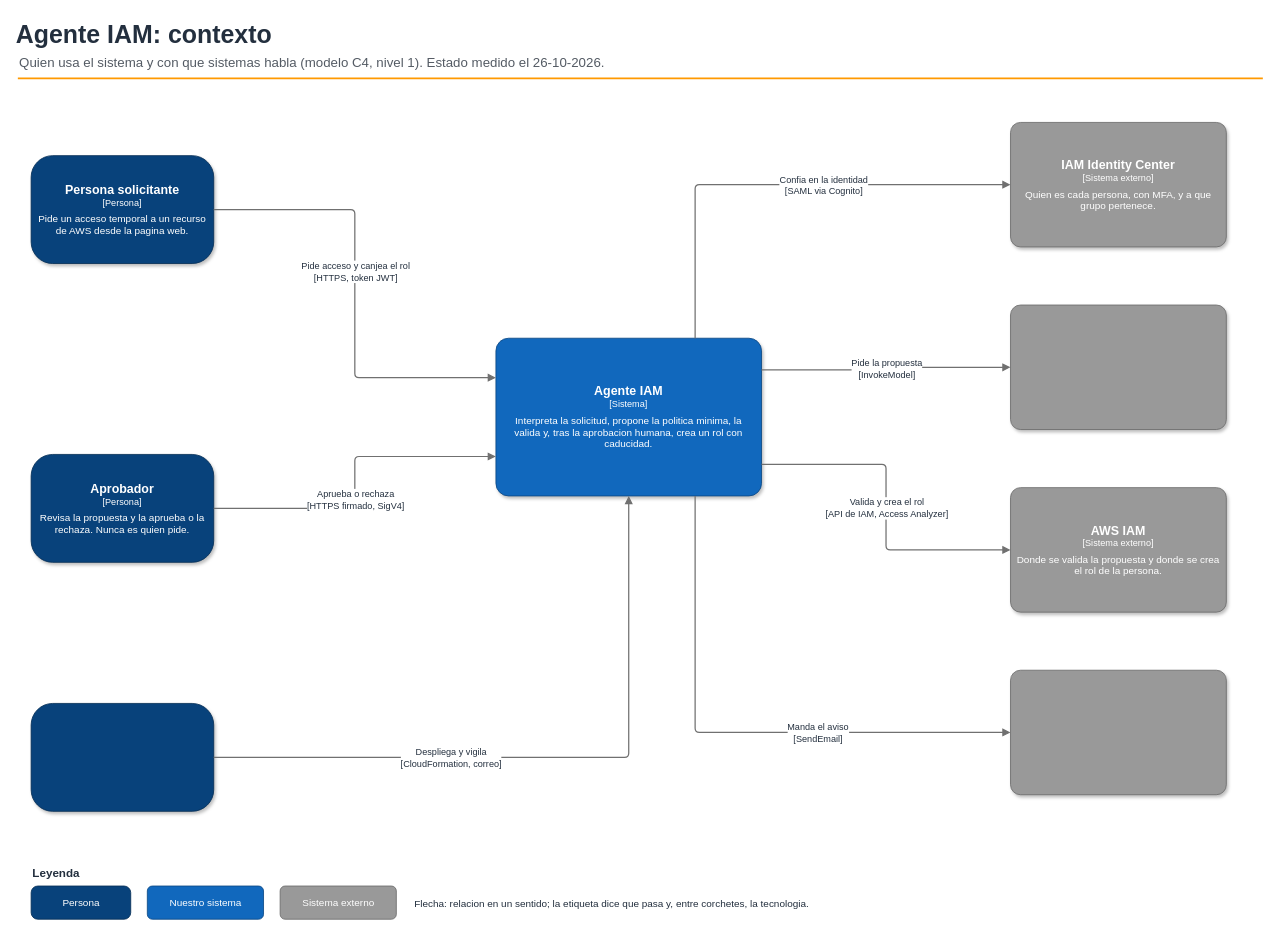
Image size: 1277x934. Some labels were removed from this diagram. The shapes that lost their labels are listed below. From the top down, each one's centre as x and y in pixels, then its label:
At (1118,368): "Amazon Bedrock [Sistema externo] El modelo que redacta la propuesta (Claude).".
At (1118,733): "Correo (Amazon SES) [Sistema externo] Avisa a la persona de cada decision.".
At (123,758): "Operador [Persona] Despliega las pilas y recibe las alarmas.".
